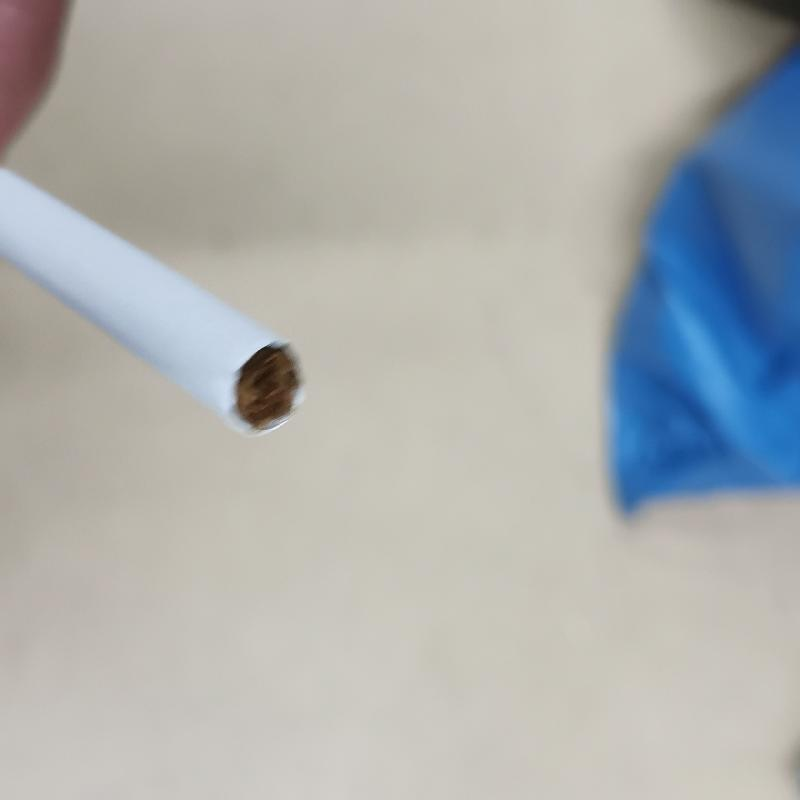cigarette: (1, 157, 306, 440)
